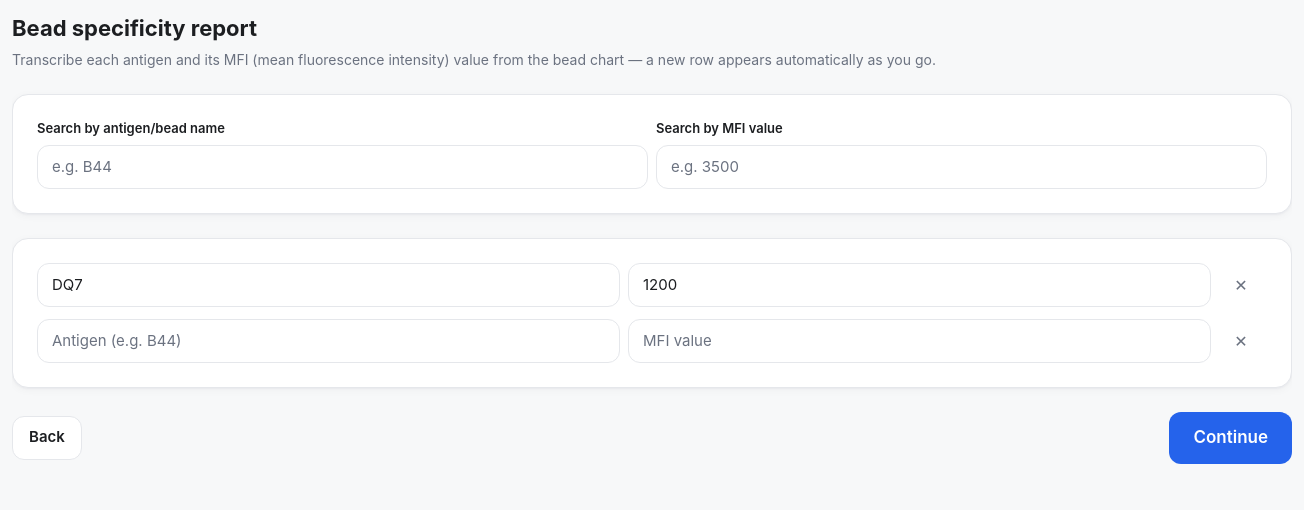
Scenario: BeadSpecificityStep › shows a no-match message and clears the search if Continue finds a row error hidden behind it
The width and height of the screenshot is (1304, 510).
In the 2nd field with placeholder "MFI value": (920, 284) [628,262,1211,306], type "not-a-number"
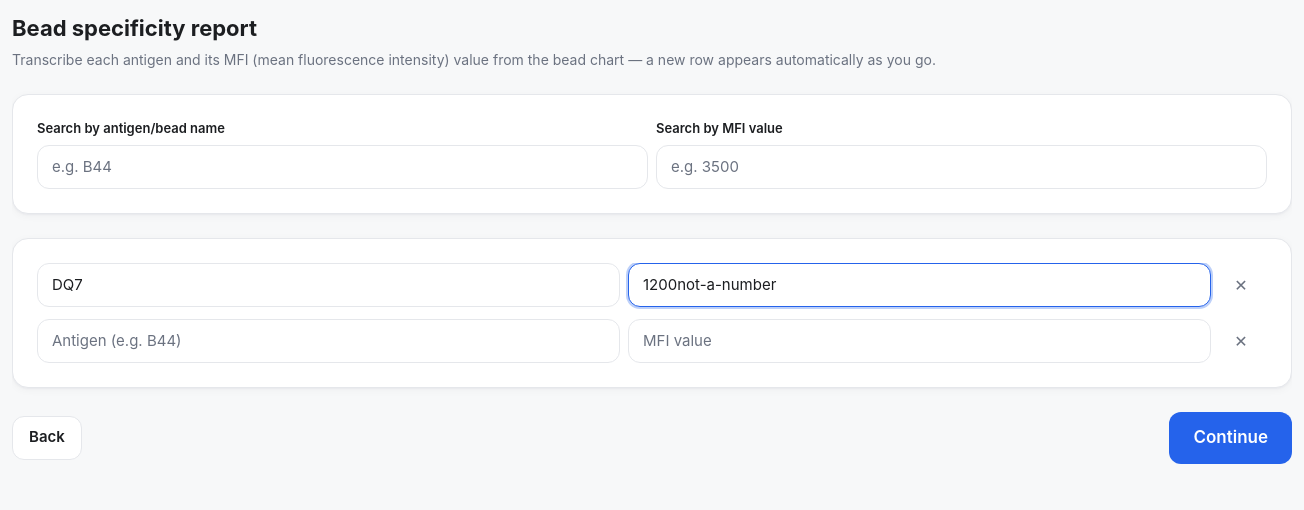
In the field labelled "Search by antigen/bead name": (342, 166) [37,144,648,188], type "no-such-antigen"
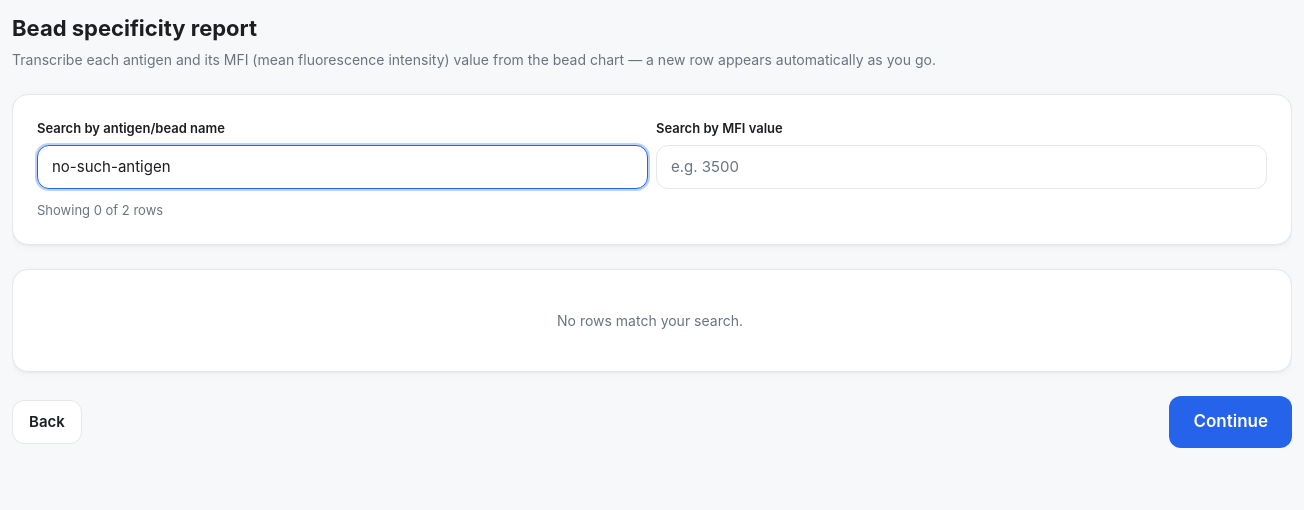
Expected: the text "No rows match your search." is shown, [557,312,743,329]
Click the button "Continue": (1231, 422) [1169,396,1292,448]
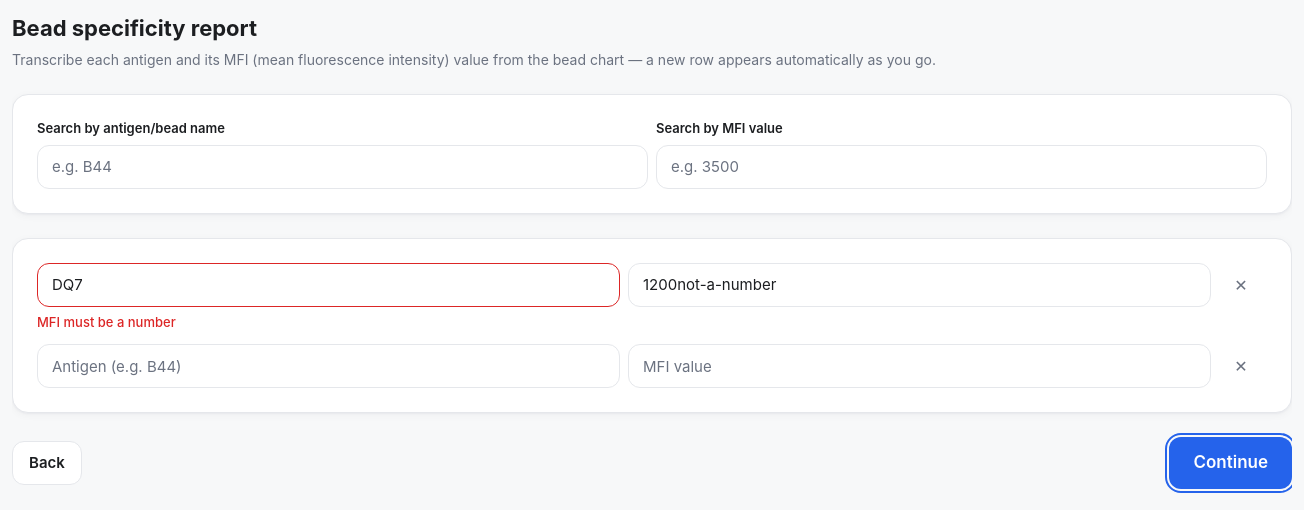
Expected: the text "MFI must be a number" is shown, [37,314,176,330]
Expected: the field labelled "Search by antigen/bead name" is empty, [37,144,648,188]
